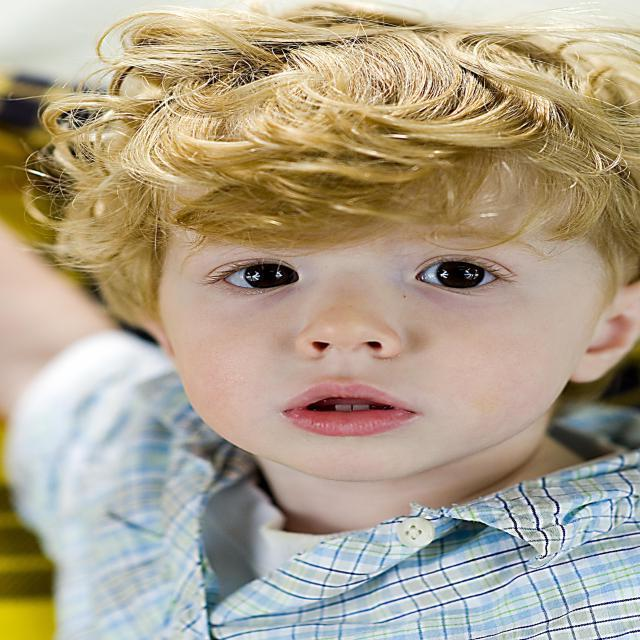open: (402, 222, 526, 308), (199, 230, 313, 308)
